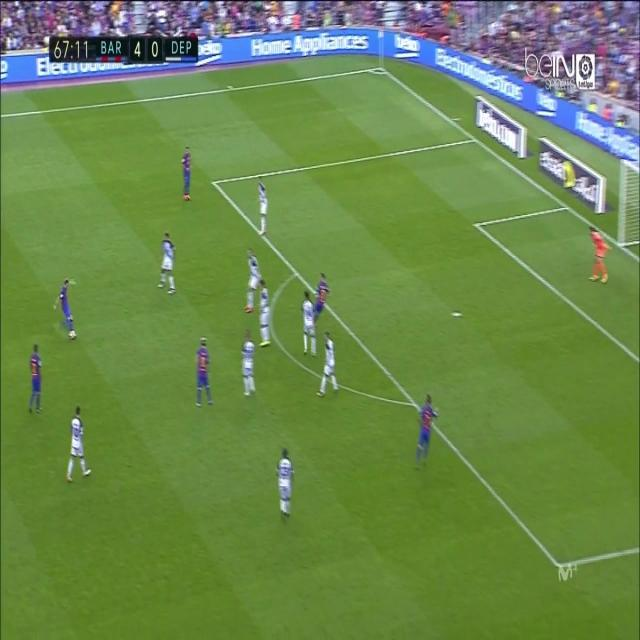Ball: (68, 326, 77, 344)
Goalkeeper: (586, 220, 614, 291)
Player: (412, 390, 442, 474), (66, 405, 92, 485), (315, 329, 340, 402), (272, 446, 296, 521), (194, 332, 215, 410), (25, 342, 44, 417), (158, 232, 178, 298), (240, 328, 258, 400), (54, 274, 78, 326), (258, 276, 274, 350), (301, 288, 317, 359), (244, 246, 260, 314), (179, 143, 195, 204), (255, 176, 270, 240), (314, 270, 330, 320)
